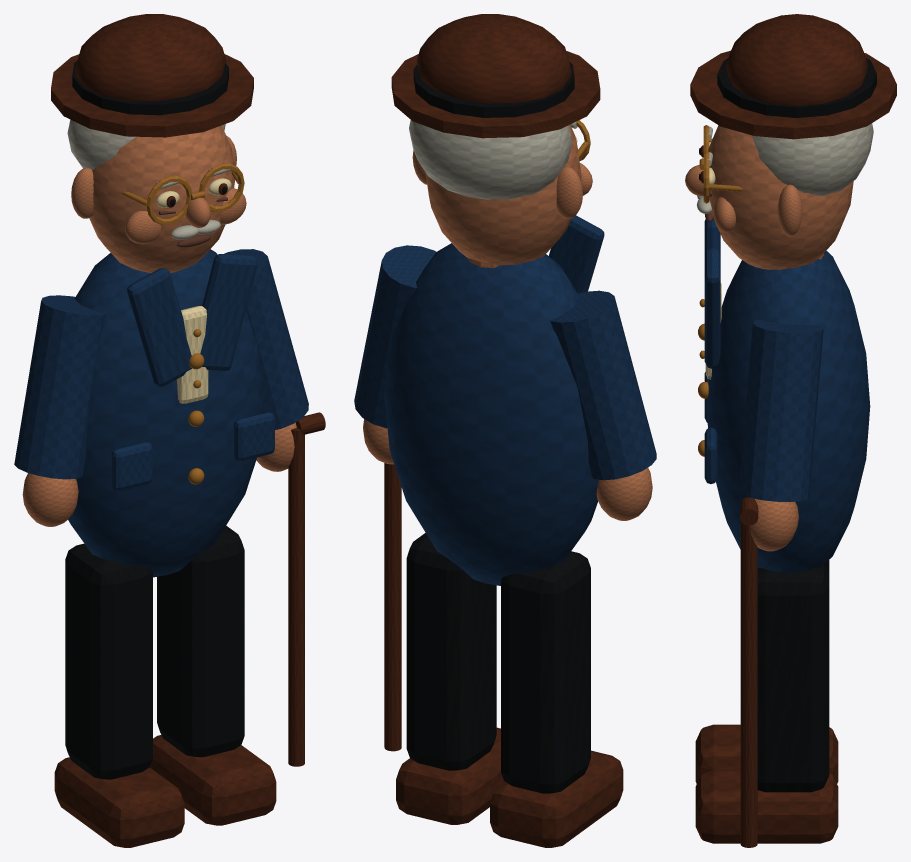
Rendered from traveller-grandpa-v1-DTwyU6P2.glb.
3 renders of one model, left to right at view 1: azimuth 30°, elevation 25°; view 2: azimuth 150°, elevation 25°; view 3: azimuth 270°, elevation 25°, orthographic. The views are drawn at different scales.
Visible parts, largest first — view 1: Coat torso, Walking stick, Trouser leg, Neck, Trouser leg.001, Walking shoe, Walking shoe.001, Torus, Grey hair, Pupil, Eye white; view 2: Coat torso, Walking stick, Trouser leg, Trouser leg.001, Neck, Grey hair, Walking shoe, Walking shoe.001, Pupil; view 3: Coat torso, Walking stick, Trouser leg.001, Neck, Walking shoe.001, Grey hair, Pupil, Walking shoe, Torus.
Boxes of the visible parts, x1=… form: Coat torso: x1=14, y1=249, x2=308, y2=577; Walking stick: x1=51, y1=14, x2=325, y2=766; Trouser leg: x1=65, y1=543, x2=152, y2=779; Neck: x1=22, y1=125, x2=296, y2=526; Trouser leg.001: x1=157, y1=525, x2=244, y2=757; Walking shoe: x1=54, y1=757, x2=184, y2=847; Walking shoe.001: x1=150, y1=735, x2=276, y2=825; Torus: x1=121, y1=163, x2=244, y2=484; Grey hair: x1=67, y1=119, x2=231, y2=239; Pupil: x1=72, y1=60, x2=228, y2=206; Eye white: x1=156, y1=178, x2=231, y2=403; Coat torso: x1=354, y1=215, x2=656, y2=585; Walking stick: x1=384, y1=14, x2=600, y2=751; Trouser leg: x1=501, y1=551, x2=590, y2=793; Trouser leg.001: x1=406, y1=533, x2=496, y2=770; Neck: x1=363, y1=125, x2=652, y2=520; Grey hair: x1=409, y1=120, x2=577, y2=199; Walking shoe: x1=490, y1=750, x2=623, y2=847; Walking shoe.001: x1=396, y1=727, x2=503, y2=824; Pupil: x1=413, y1=61, x2=574, y2=117; Coat torso: x1=704, y1=218, x2=870, y2=573; Walking stick: x1=690, y1=14, x2=896, y2=847; Trouser leg.001: x1=757, y1=564, x2=829, y2=792; Neck: x1=685, y1=125, x2=853, y2=551; Walking shoe.001: x1=695, y1=769, x2=838, y2=843; Grey hair: x1=697, y1=123, x2=873, y2=213; Pupil: x1=699, y1=58, x2=876, y2=180; Walking shoe: x1=695, y1=724, x2=838, y2=783; Torus: x1=698, y1=125, x2=743, y2=456.
Size of the model in its own units: 0.9473 by 2.43 by 0.595.
8 materials, 8 textured.
